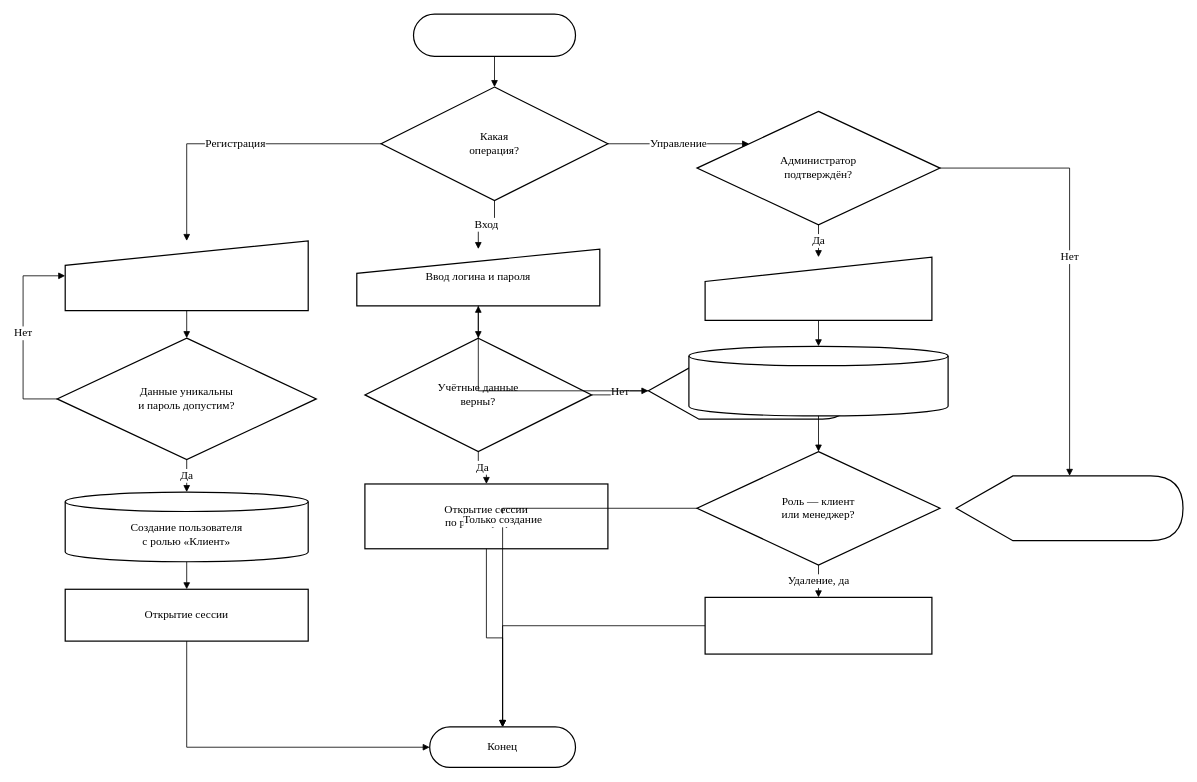
Some shapes in this 1197 by 782 pixel diagram are drawn without their labels. The box of each missing label's shape, as (x1, y1, x2, y2) in pixels:
Ввод данных менеджера: (704, 256, 932, 321)
Ввод логина, почты, пароля и имени: (64, 240, 308, 311)
Начало: (413, 13, 576, 57)
Отказ: администратора удалить нельзя: (955, 475, 1183, 541)
Создание пользователя с ролью «Менеджер»: (688, 345, 948, 416)
Удаление пользователя: (704, 596, 932, 654)
